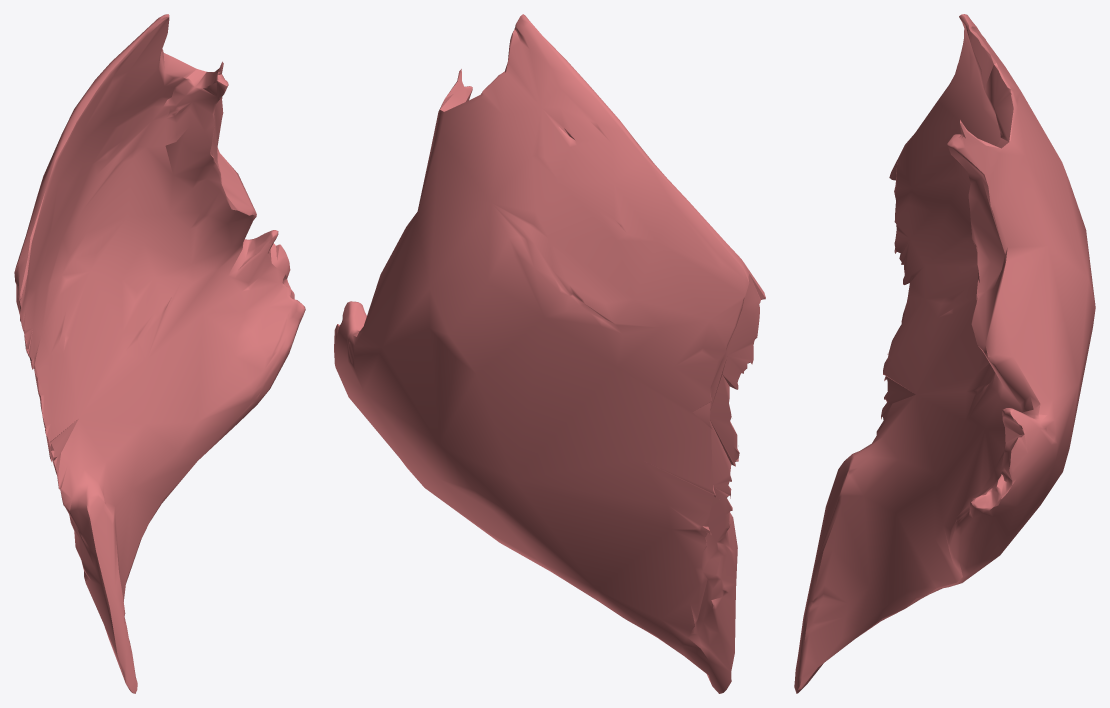
3 renders of one model, left to right at view 1: azimuth 30°, elevation 25°; view 2: azimuth 150°, elevation 25°; view 3: azimuth 270°, elevation 25°, orthographic. The views are drawn at different scales.
Parts seen in each view (by area): view 1: FJ1418; view 2: FJ1418; view 3: FJ1418.
Boxes of the visible parts, x1,y1,x2,y2 form: FJ1418: (14,14,305,693); FJ1418: (334,14,765,693); FJ1418: (794,14,1095,693).
Bounding box in the file's own units: 0.1461 × 0.2634 × 0.0973.
